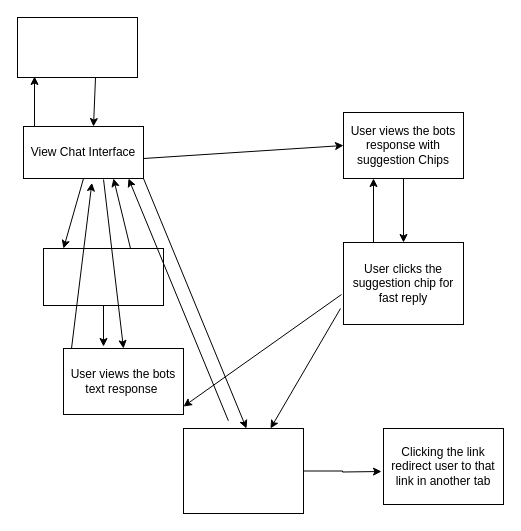
The diagram is 521 pixels wide and 531 high, and some of its shapes have lost their labels. The shapes that lost their labels are listed below. From the top down, each one's centre as x and y in pixels, then its label:
At point 77,47: "View Chat Widget".
At point 103,277: "User started conversation".
At point 243,471: "User views the bots text response with a link".
